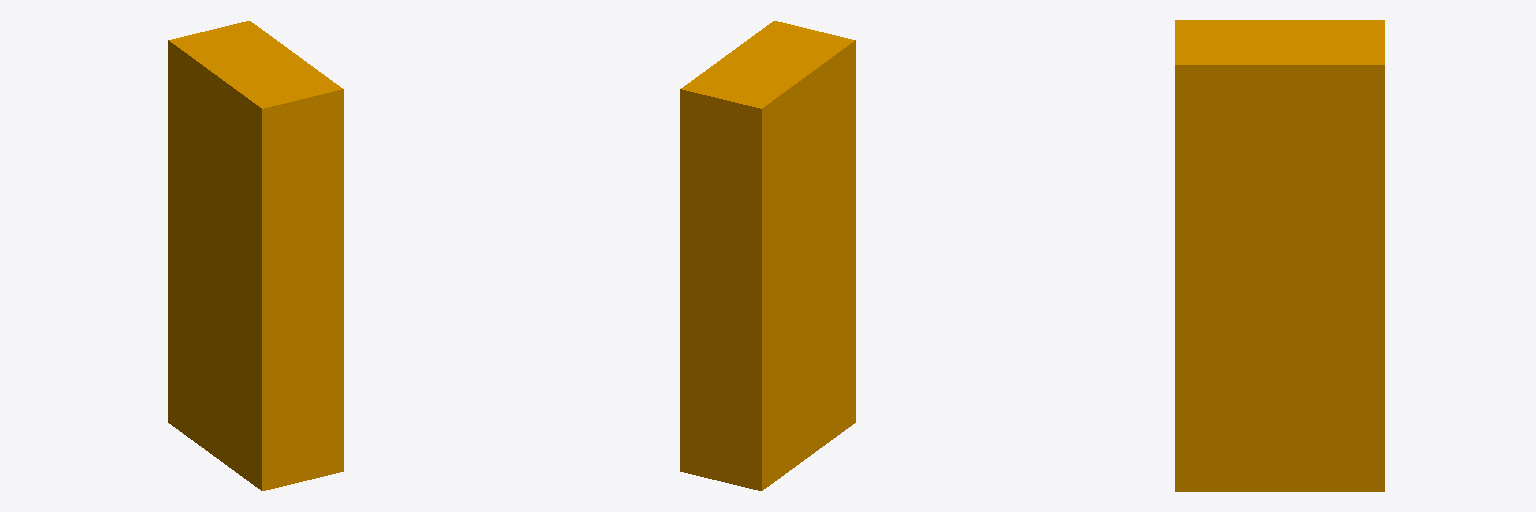
The robot description file, URDF, robot "board_support":
<?xml version='1.0' encoding='utf-8'?>
<robot name="board_support">
  <link name="body">
    <inertial>
      <origin xyz="0.47999999999999987 0.0 0.08999999999999987" />
      <mass value="0.5" />
      <inertia ixx="0.0016166666666666697" iyy="0.0014166666666665935" izz="0.00033333333333323997" ixy="0.0" ixz="-5.882173244821517e-18" iyz="0.0" />
    </inertial>
    <visual>
      <geometry>
        <mesh filename="part_00.obj" />
      </geometry>
    </visual>
    <collision>
      <geometry>
        <mesh filename="part_00.obj" />
      </geometry>
    </collision>
  </link>
</robot>

--- What the picture shows (computed from the rendered views, not written in the file) ---
3 views of the same robot in one strip: view 1: azimuth 30°, elevation 25°; view 2: azimuth 150°, elevation 25°; view 3: azimuth 270°, elevation 25° (orthographic).
Robot: board_support — 1 links, 0 joints (none); root link body; default pose: all joints at 0.
Visible links, largest first — view 1: body; view 2: body; view 3: body.
Link boxes in pixels (<box>): body: <box>168,21,343,490</box>; body: <box>680,21,855,490</box>; body: <box>1175,20,1384,491</box>.
Bounding box of the posed robot: 0.04 × 0.08 × 0.18 m (x, y, z).
1 mesh visuals loaded from 1 distinct referenced files (1 OBJ).
